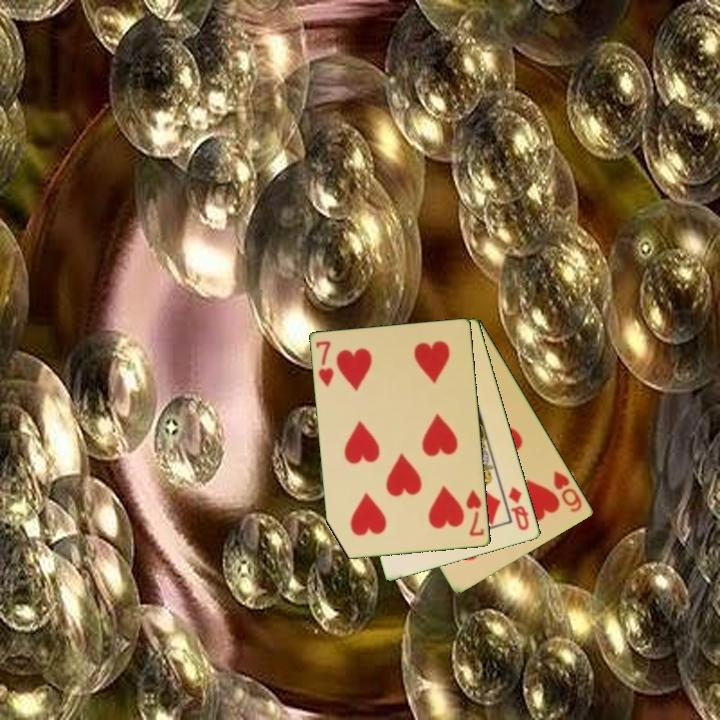6h: (550, 467, 585, 515)
7h: (463, 486, 487, 539), (313, 338, 337, 390)
Qd: (505, 483, 532, 534)
